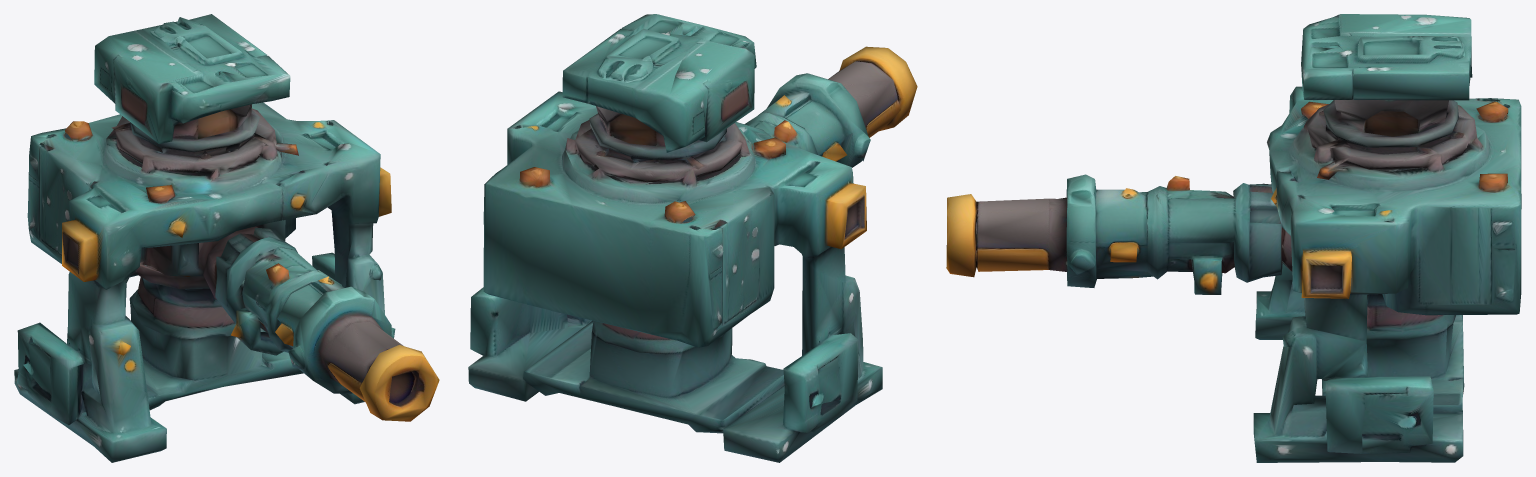
Rendered from utility_turret_3000.glb.
3 views of the same model, side by side, from view 1: azimuth 30°, elevation 25°; view 2: azimuth 150°, elevation 25°; view 3: azimuth 270°, elevation 25° (orthographic). The views are drawn at different scales.
Parts seen in each view (by area): view 1: tripo_node_c9f3559b-efe0-486b-af80-02b2d26fcd7b; view 2: tripo_node_c9f3559b-efe0-486b-af80-02b2d26fcd7b; view 3: tripo_node_c9f3559b-efe0-486b-af80-02b2d26fcd7b.
Part boxes in pixels (<box>): tripo_node_c9f3559b-efe0-486b-af80-02b2d26fcd7b: <box>14,14,439,462</box>; tripo_node_c9f3559b-efe0-486b-af80-02b2d26fcd7b: <box>468,14,917,462</box>; tripo_node_c9f3559b-efe0-486b-af80-02b2d26fcd7b: <box>946,14,1521,462</box>.
Bounding box in the file's own units: 0.6559 × 0.659 × 0.9784.
Materials: 1 (1 with a texture image).
